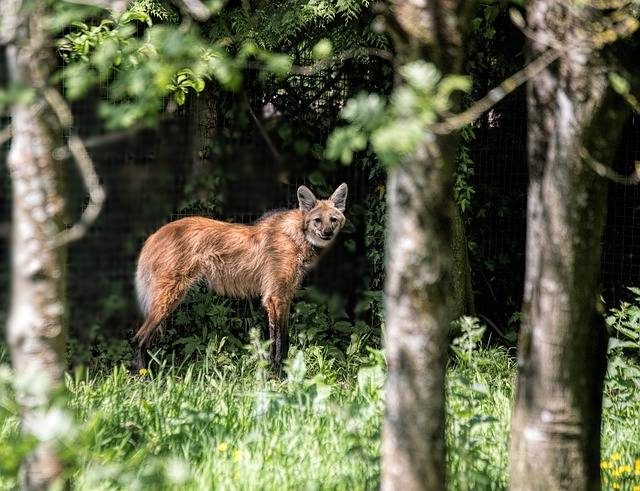LoboGuara: (110, 179, 354, 381)
